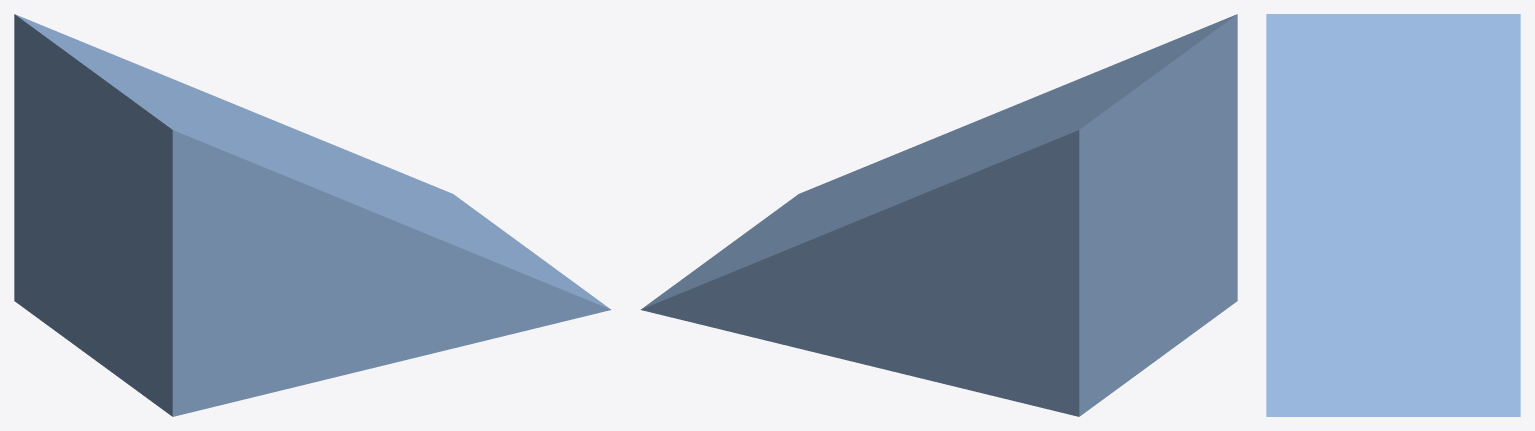
Rendered from wedge.glb.
The picture shows the model from 3 angles, left to right: view 1: azimuth 30°, elevation 25°; view 2: azimuth 150°, elevation 25°; view 3: azimuth 270°, elevation 25°; orthographic projection. The views are drawn at different scales.
Parts seen in each view (by area): view 1: wedge; view 2: wedge; view 3: wedge.
Part boxes in pixels (x1=…): wedge: x1=14, y1=14, x2=611, y2=416; wedge: x1=640, y1=14, x2=1237, y2=416; wedge: x1=1266, y1=14, x2=1520, y2=416.
Bounding box in the file's own units: 80 × 50 × 50.
